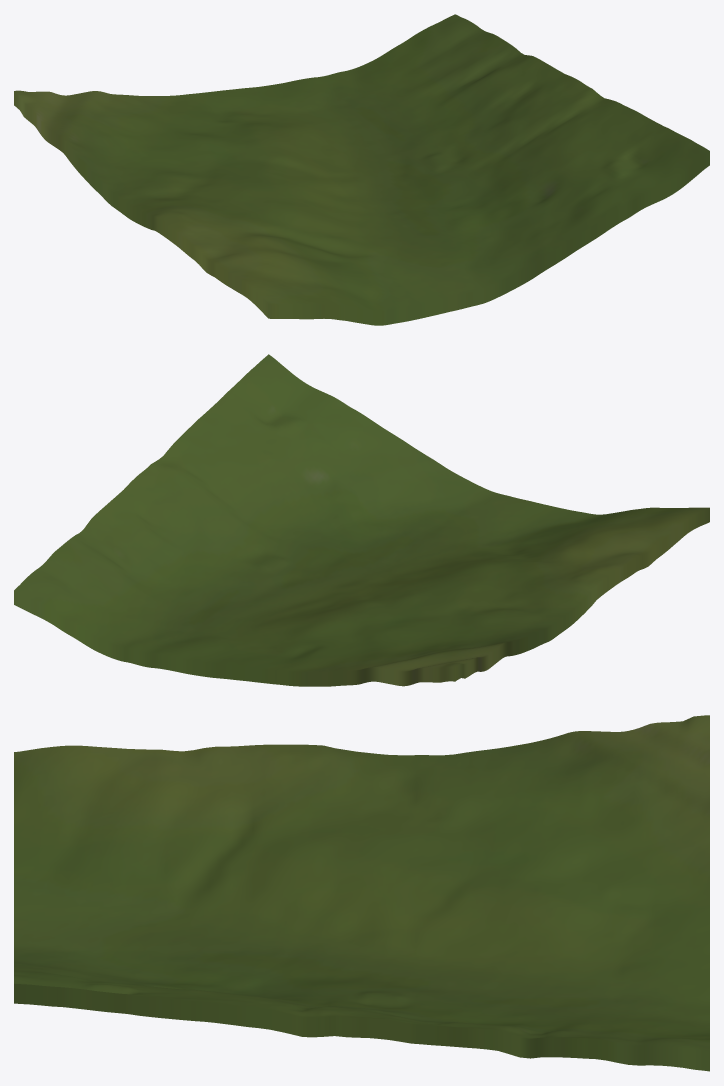
File: terrain_9_-20.glb
The picture shows the model from 3 angles, top to bottom: view 1: azimuth 30°, elevation 25°; view 2: azimuth 150°, elevation 25°; view 3: azimuth 270°, elevation 25°; orthographic projection. The views are drawn at different scales.
Visible parts, largest first — view 1: terrain_9_-20; view 2: terrain_9_-20; view 3: terrain_9_-20.
Part boxes in pixels (x1,y1,x2,y2): terrain_9_-20: [14, 14, 709, 325]; terrain_9_-20: [14, 354, 709, 686]; terrain_9_-20: [14, 715, 709, 1071].
Bounding box in the file's own units: 256 × 54.14 × 256.
